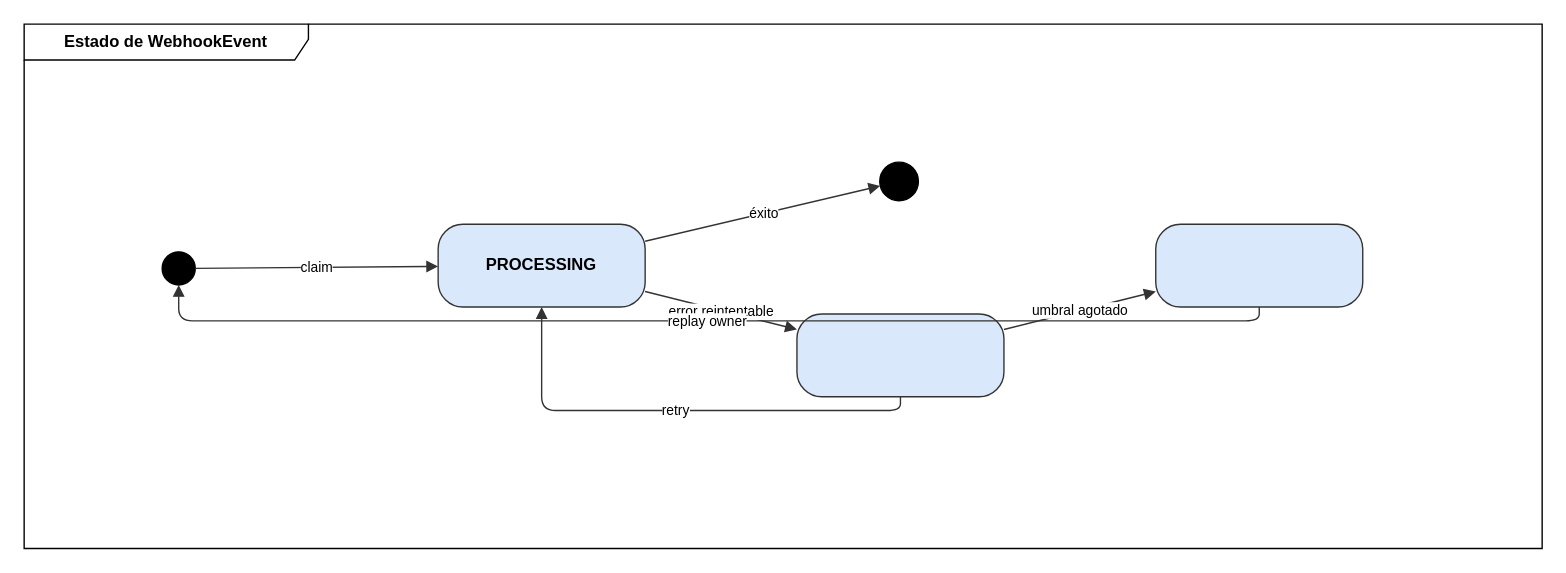
This 1566x573 diagram has some shape labels left out. The box of each missing label's shape, as (x1, y1, x2, y2) in pixels:
DEAD: (1154, 223, 1363, 307)
FAILED: (796, 313, 1004, 397)
